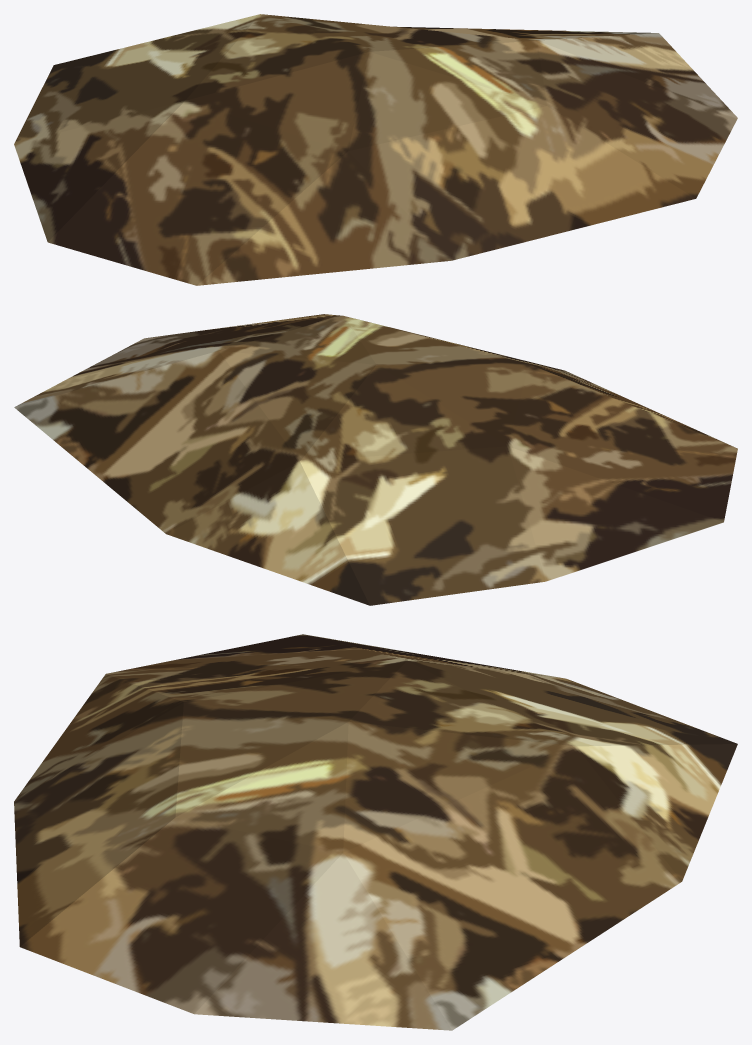
File: Trash_pile_004.fbx
3 renders of one model, top to bottom at view 1: azimuth 30°, elevation 25°; view 2: azimuth 150°, elevation 25°; view 3: azimuth 270°, elevation 25°, orthographic. The views are drawn at different scales.
Visible parts, largest first — view 1: Trash_pile_004; view 2: Trash_pile_004; view 3: Trash_pile_004.
Part boxes in pixels (x1,y1,x2,y2): Trash_pile_004: (14, 14, 737, 285); Trash_pile_004: (14, 314, 737, 605); Trash_pile_004: (14, 634, 737, 1030).
Bounding box in the file's own units: 49.14 × 37.92 × 6.54.
